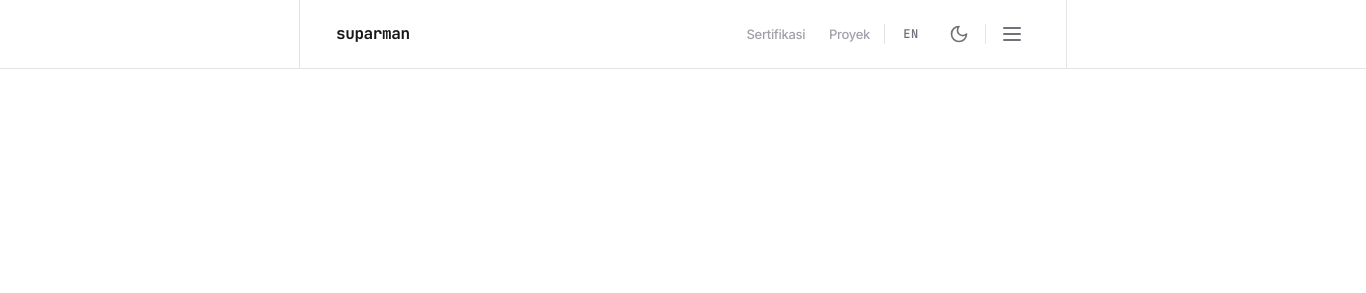
Test: Navbar › tombol hamburger mengubah aria-expanded dari false ke true dan kembali saat diklik (Req 1.5)
// Klik untuk membuka: aria-expanded menjadi true.
Click the button named "Buka menu navigasi" at x=1012, y=34, box 990,12 -> 1034,56
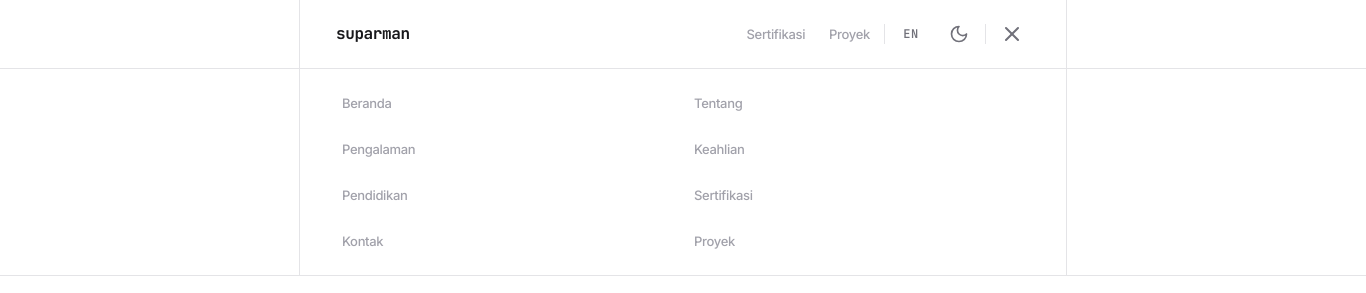
Result: the button named "Tutup menu navigasi" is expanded
// Klik lagi untuk menutup: aria-expanded kembali false.
Click the button named "Tutup menu navigasi" at x=1012, y=34, box 990,12 -> 1034,56
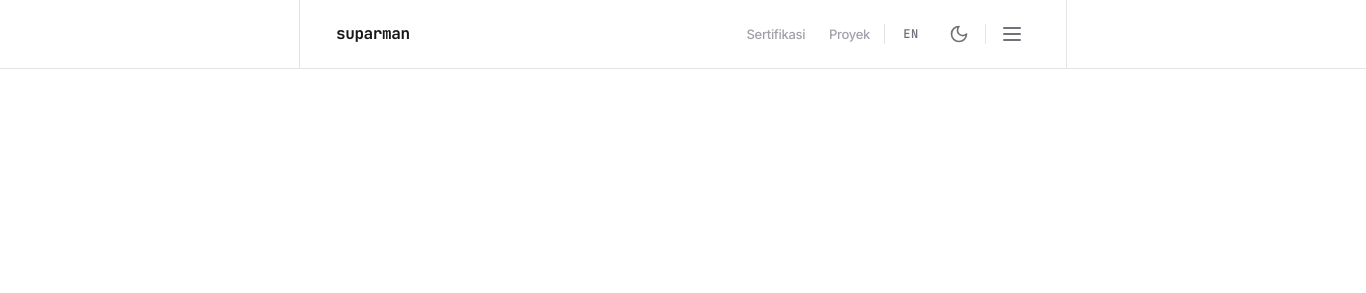
Result: the button named "Buka menu navigasi" is collapsed at 990,12 -> 1034,56
